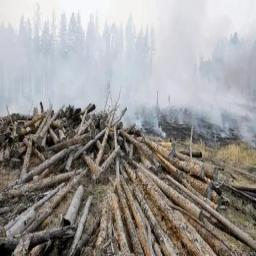Heavy smoke: (0, 3, 256, 123)
